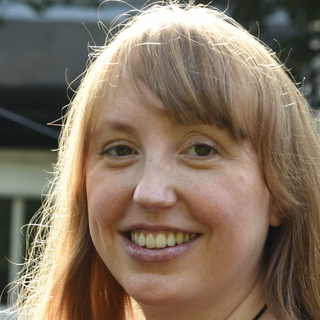eye: (169, 141, 224, 164), (98, 139, 143, 162)
